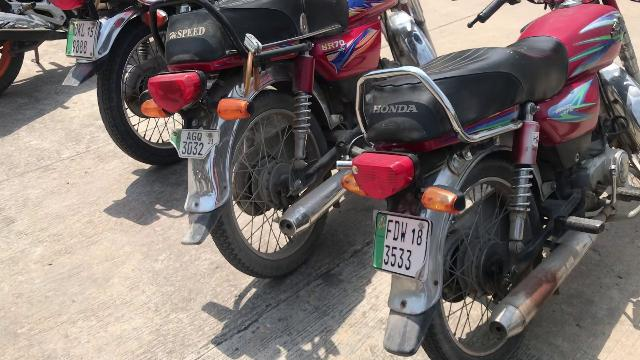plate: (372, 209, 438, 282)
